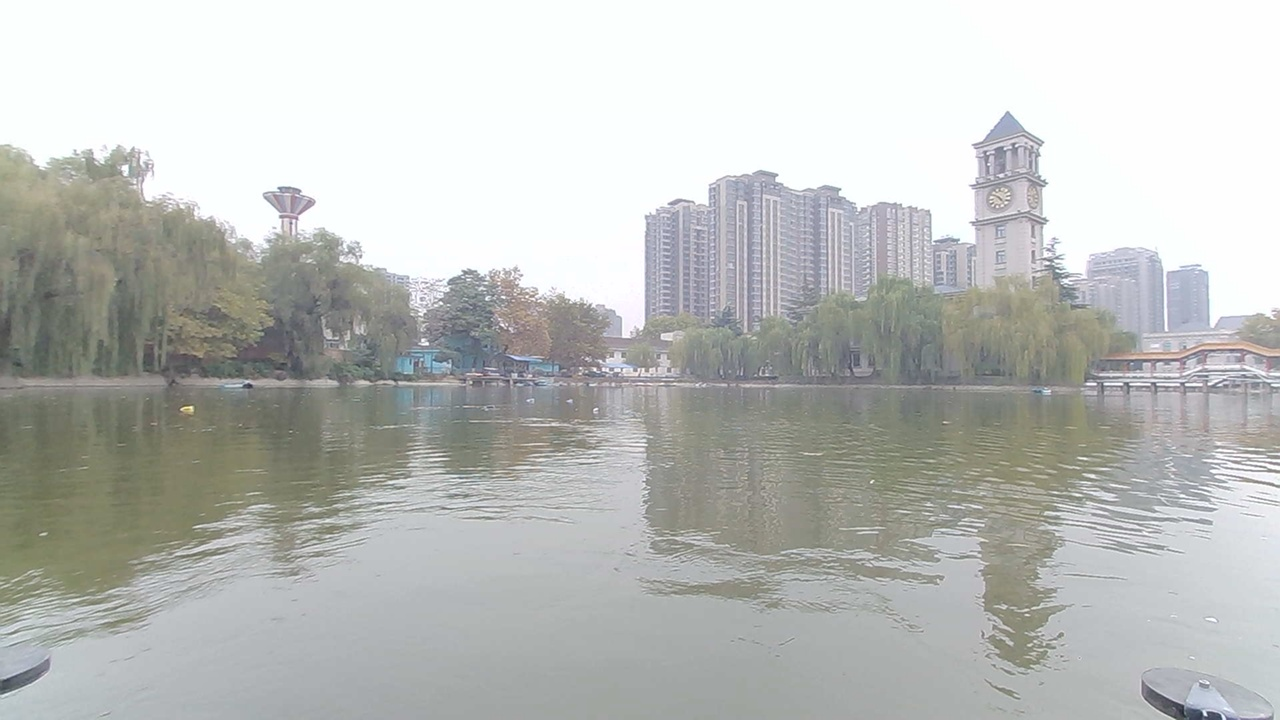bottle: (579, 401, 622, 425), (521, 385, 564, 408), (168, 394, 201, 418), (557, 389, 582, 405)
